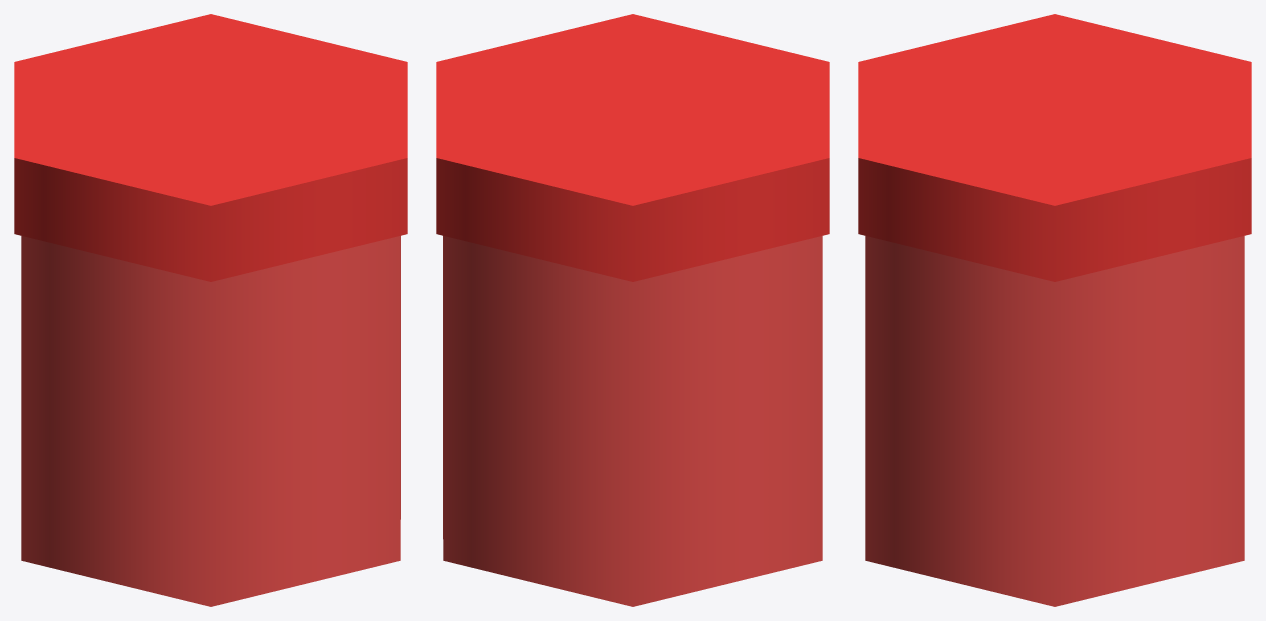
Rendered from prop_075.glb.
3 renders of one model, left to right at view 1: azimuth 30°, elevation 25°; view 2: azimuth 150°, elevation 25°; view 3: azimuth 270°, elevation 25°, orthographic.
Visible parts, largest first — view 1: prop_075; view 2: prop_075; view 3: prop_075.
Part boxes in pixels (x1,y1,x2,y2): prop_075: [14, 14, 407, 606]; prop_075: [436, 14, 829, 606]; prop_075: [858, 14, 1251, 606].
Size of the model in its own units: 0.1026 by 0.1008 by 0.0889.
Materials: 1 (1 with a texture image).
